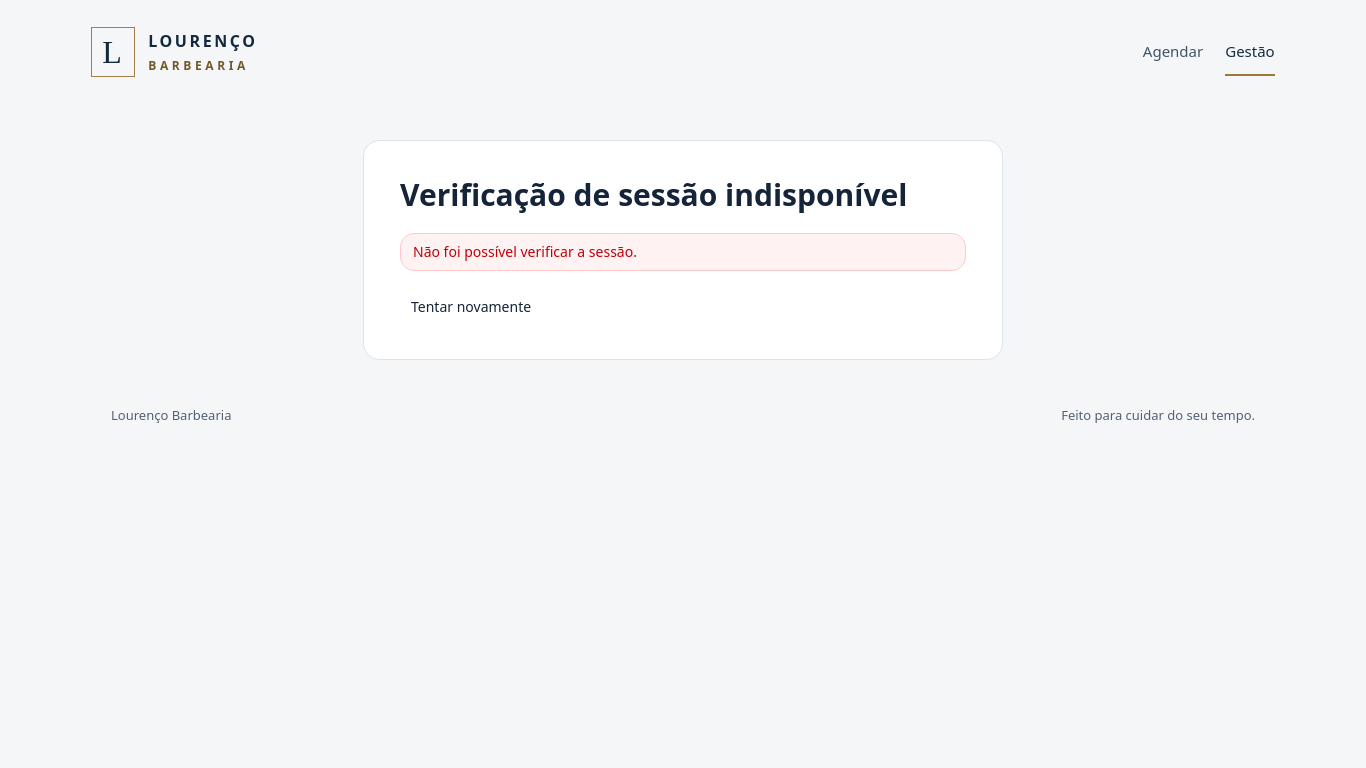
Test case: keeps a transient session-check failure separate from logout and lets the user retry
Check: the heading "Verificação de sessão indisponível" is shown, box [400, 177, 966, 213]
Click the button "Tentar novamente".
click(471, 307)  # box [400, 291, 542, 323]
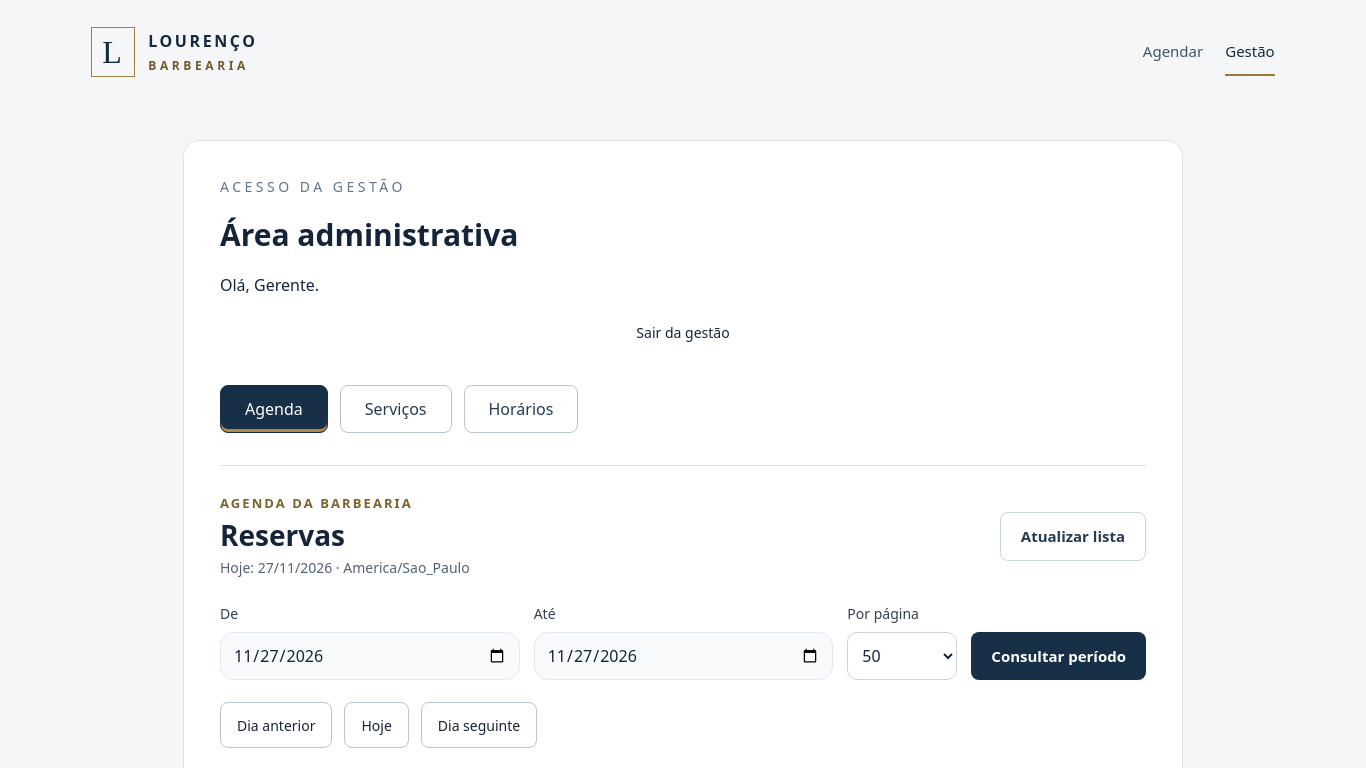
Check: the heading "Área administrativa" is shown, box [220, 214, 518, 255]
